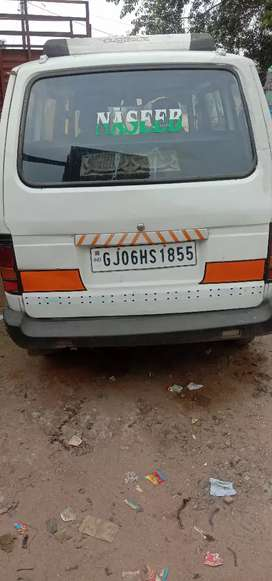GJ06HS1855: (90, 241, 196, 273)
